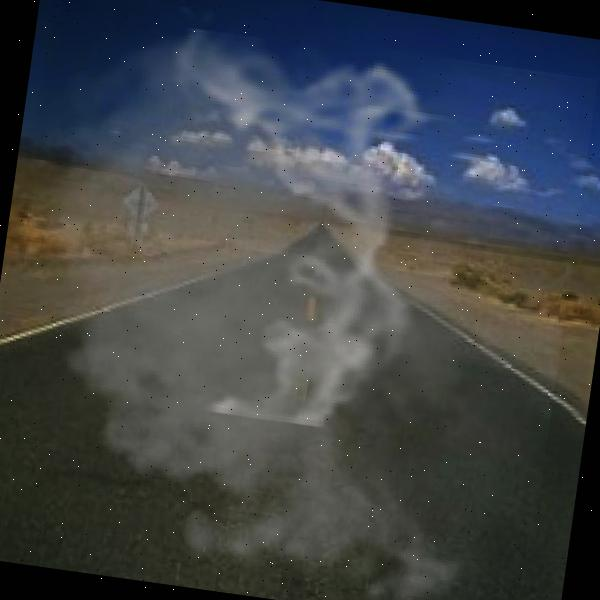smoke: (0, 1, 598, 600)
